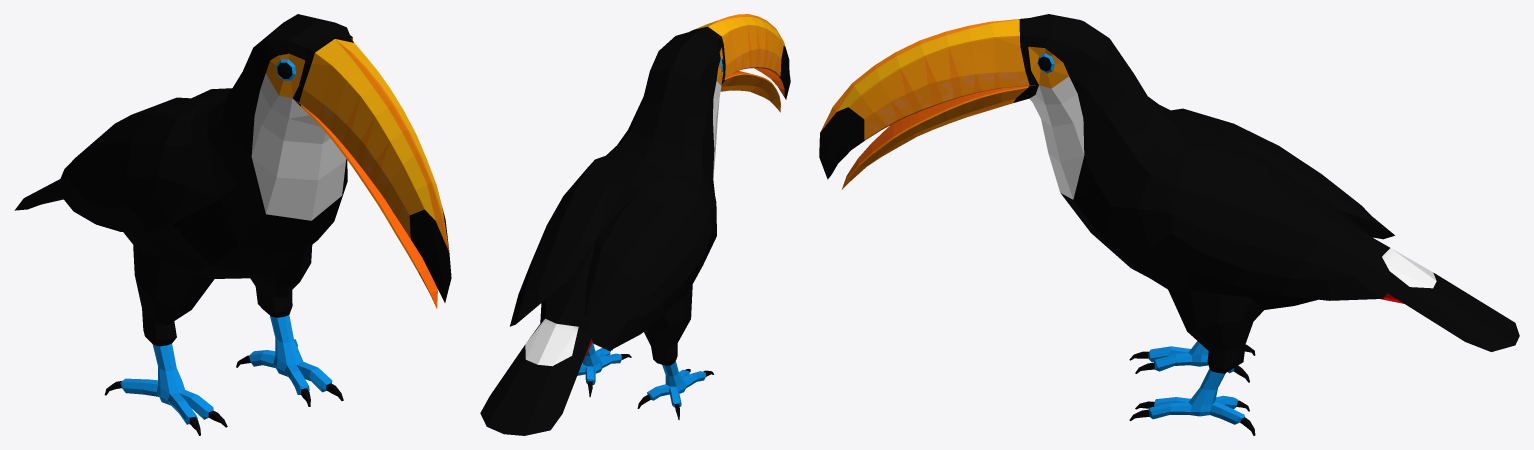
Rendered from tucan.glb.
3 views of the same model, side by side, from view 1: azimuth 30°, elevation 25°; view 2: azimuth 150°, elevation 25°; view 3: azimuth 270°, elevation 25° (orthographic). The views are drawn at different scales.
Parts seen in each view (by area): view 1: TocoToucan; view 2: TocoToucan; view 3: TocoToucan.
Part boxes in pixels (x1,y1,x2,y2): TocoToucan: (14,14,451,435); TocoToucan: (480,14,790,435); TocoToucan: (819,14,1519,435).
Bounding box in the file's own units: 0.1815 × 0.3802 × 0.6334.
Materials: 1 (1 with a texture image).
